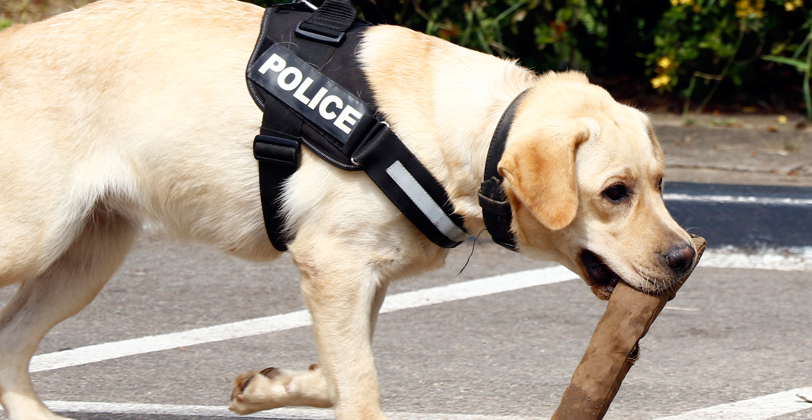Dog: (1, 1, 702, 415)
